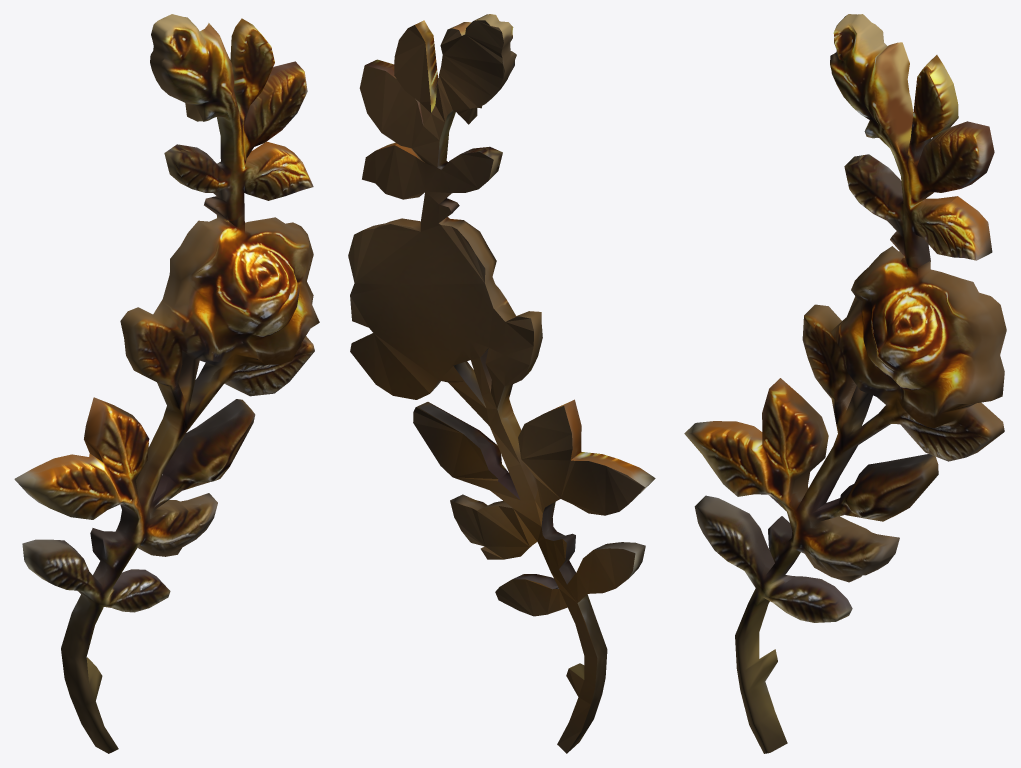
The model's file is Art2375.fbx.
3 views of the same model, side by side, from view 1: azimuth 30°, elevation 25°; view 2: azimuth 150°, elevation 25°; view 3: azimuth 330°, elevation 25° (orthographic). The views are drawn at different scales.
Parts seen in each view (by area): view 1: Mesh_2; view 2: Mesh_2; view 3: Mesh_2.
Part boxes in pixels (left/top/right/bottom): Mesh_2: left=14, top=14, right=319, bottom=753; Mesh_2: left=348, top=14, right=655, bottom=753; Mesh_2: left=684, top=14, right=1006, bottom=753.
Size of the model in its own units: 9.61 by 22.21 by 2.02.
Materials: 1 (1 with a texture image).
